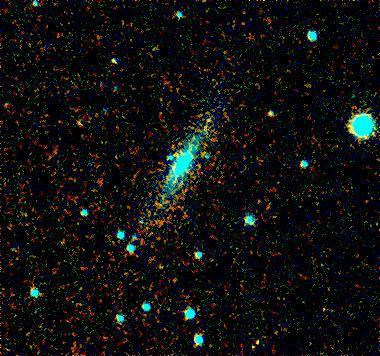star: (193, 108, 223, 138)
